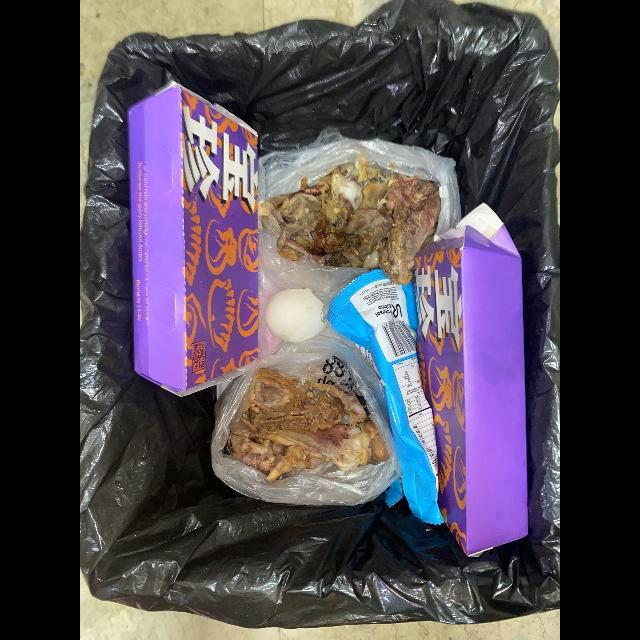cardboard: (413, 206, 530, 559), (127, 83, 258, 397)
food_wrapper: (327, 269, 444, 526)
left_over_food: (262, 159, 441, 286), (227, 369, 389, 483)
plastic_bag: (211, 127, 462, 507)
